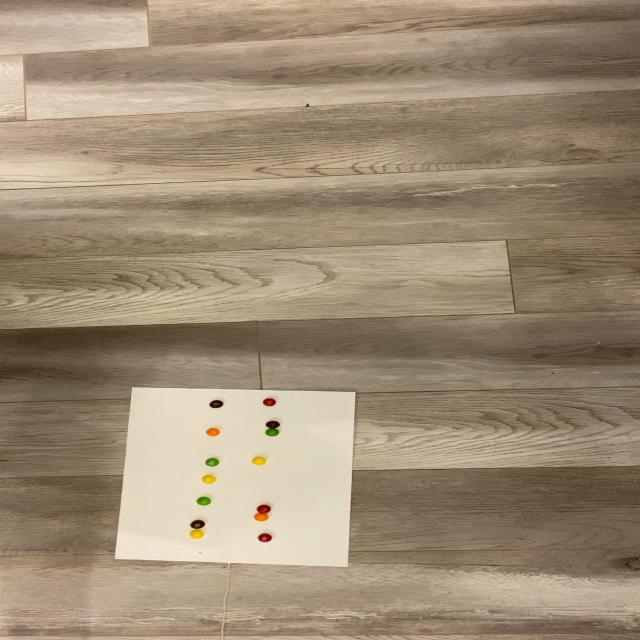smartie: (201, 475, 217, 485), (252, 456, 267, 466), (190, 529, 205, 539), (258, 533, 273, 543), (191, 519, 205, 529), (265, 420, 280, 429), (205, 428, 220, 437), (264, 428, 279, 437), (205, 459, 220, 468), (197, 498, 212, 507), (254, 513, 269, 522), (209, 400, 223, 409), (262, 398, 276, 407), (257, 506, 271, 514)
